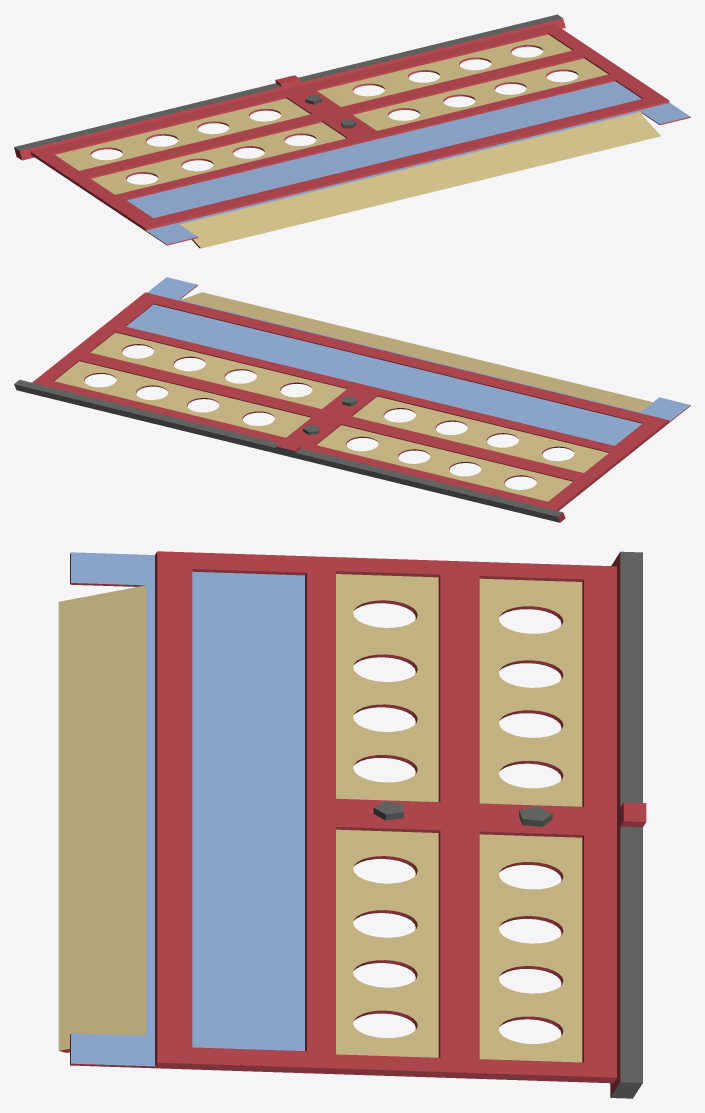
Rendered from ShipDeckHatch.fbx.
3 views of the same model, one above another, from view 1: azimuth 30°, elevation 25°; view 2: azimuth 150°, elevation 25°; view 3: azimuth 270°, elevation 25° (orthographic). The views are drawn at different scales.
Parts seen in each view (by area): view 1: Model; view 2: Model; view 3: Model.
Part boxes in pixels (x1,y1,x2,y2): Model: (14,14,690,248); Model: (14,277,690,522); Model: (58,551,646,1098).
Bounding box in the file's own units: 758 × 17.65 × 355.
